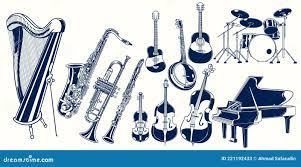Piano: (207, 68, 301, 153)
Saxophone: (58, 12, 134, 127)
Violin: (133, 82, 159, 148)
